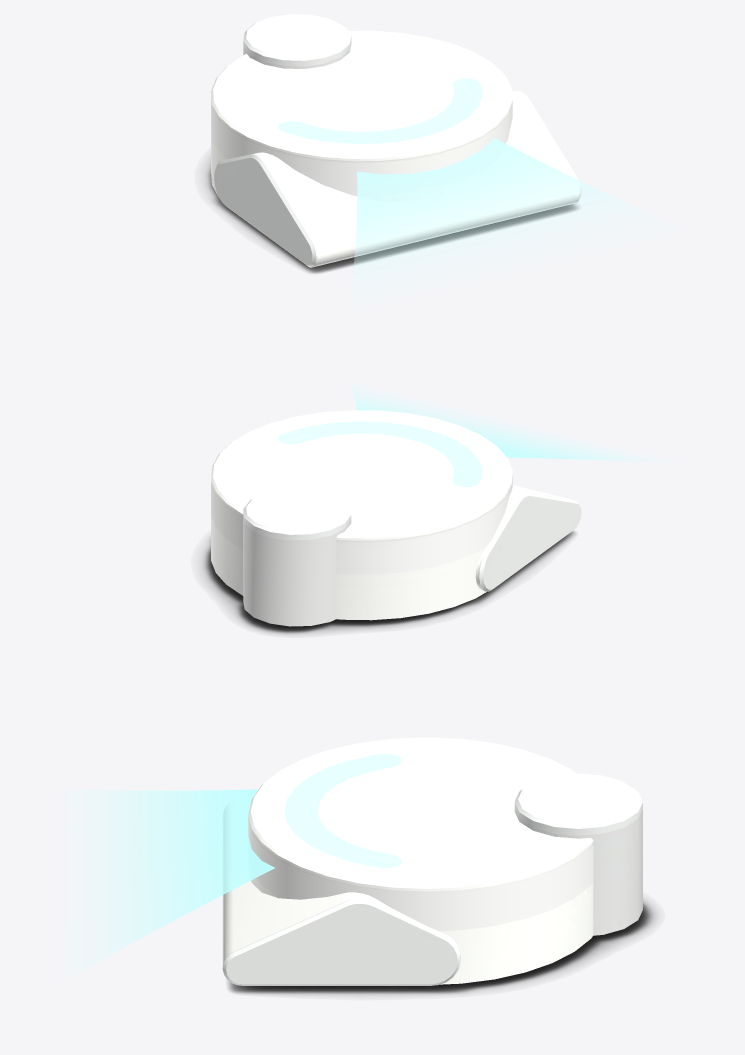
File: powerbot.gltf
3 renders of one model, top to bottom at view 1: azimuth 30°, elevation 25°; view 2: azimuth 150°, elevation 25°; view 3: azimuth 270°, elevation 25°, orthographic. The views are drawn at different scales.
Visible parts, largest first — view 1: Powerbot_2, Cube, PB_shadow; view 2: Powerbot_2, Cube, PB_shadow; view 3: Powerbot_2, Cube, PB_shadow.
Part boxes in pixels (x1,y1,x2,y2): Powerbot_2: (211, 14, 581, 267); Cube: (352, 138, 654, 286); PB_shadow: (206, 161, 577, 273); Powerbot_2: (211, 410, 581, 626); Cube: (352, 388, 647, 461); PB_shadow: (203, 531, 574, 634); Powerbot_2: (222, 737, 642, 985); Cube: (94, 789, 274, 963); PB_shadow: (228, 900, 655, 994).
Size of the model in its own units: 200 by 42.98 by 241.
Materials: 3 (3 with a texture image).
